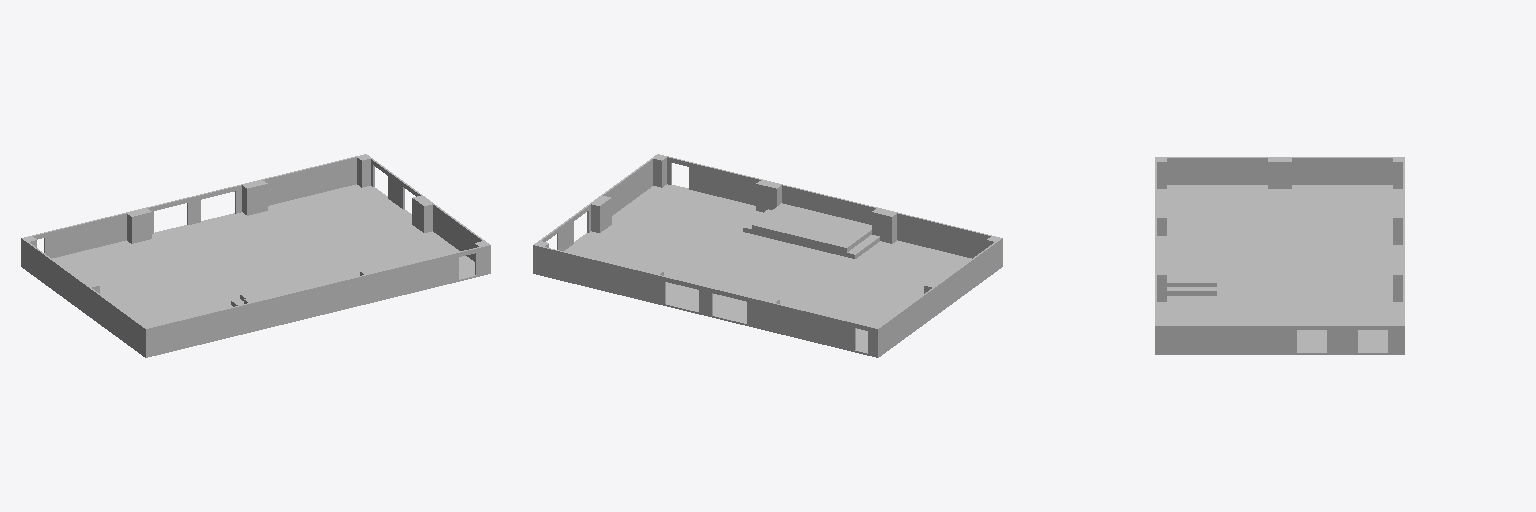
Rendered from Hall1.obj.
3 views of the same model, side by side, from view 1: azimuth 30°, elevation 25°; view 2: azimuth 150°, elevation 25°; view 3: azimuth 270°, elevation 25° (orthographic).
Parts seen in each view (by area): view 1: Hall1; view 2: Hall1; view 3: Hall1.
Boxes of the visible parts, box(x1,y1,x2,y2) form: Hall1: box(21, 154, 490, 357); Hall1: box(533, 154, 1002, 357); Hall1: box(1155, 157, 1404, 354).
Bounding box in the file's own units: 40 × 3.2 × 25.